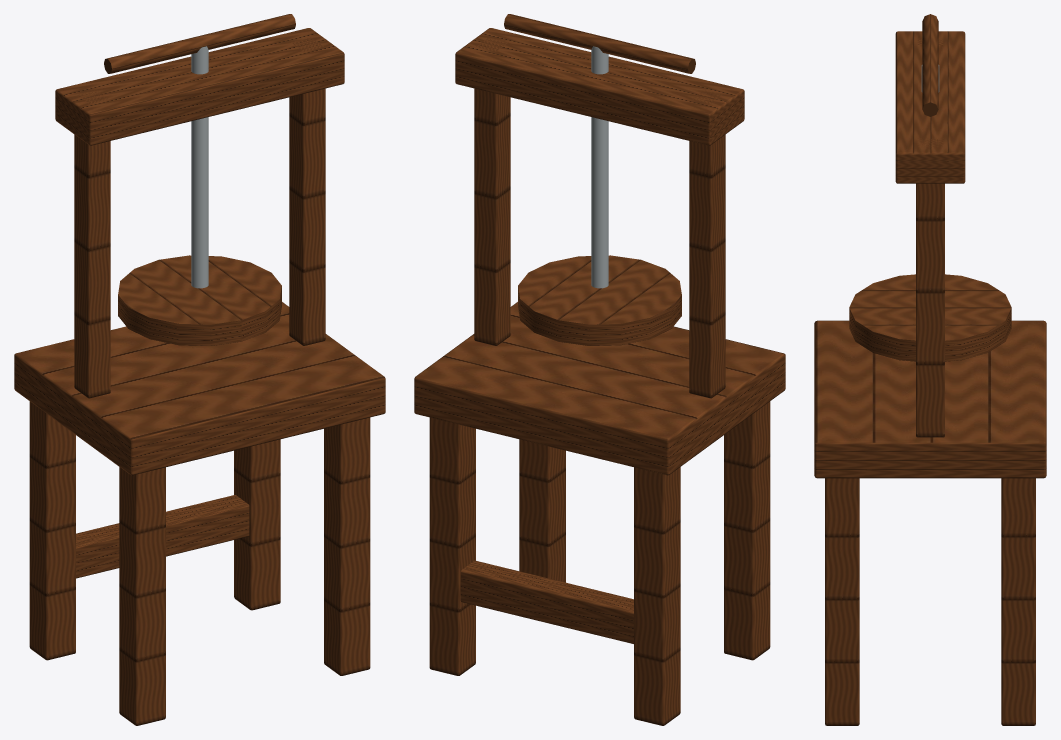
The model's file is survival-food-and-preservation-cheese-press-eab38bf4__21814.glb.
3 renders of one model, left to right at view 1: azimuth 30°, elevation 25°; view 2: azimuth 150°, elevation 25°; view 3: azimuth 270°, elevation 25°, orthographic.
Parts seen in each view (by area): view 1: cheese-press; view 2: cheese-press; view 3: cheese-press.
Part boxes in pixels (x1,y1,x2,y2): cheese-press: (14,14,385,725); cheese-press: (414,14,785,725); cheese-press: (814,14,1046,725).
Bounding box in the file's own units: 0.4999 × 1.16 × 0.4.
2 materials, 1 textured.
